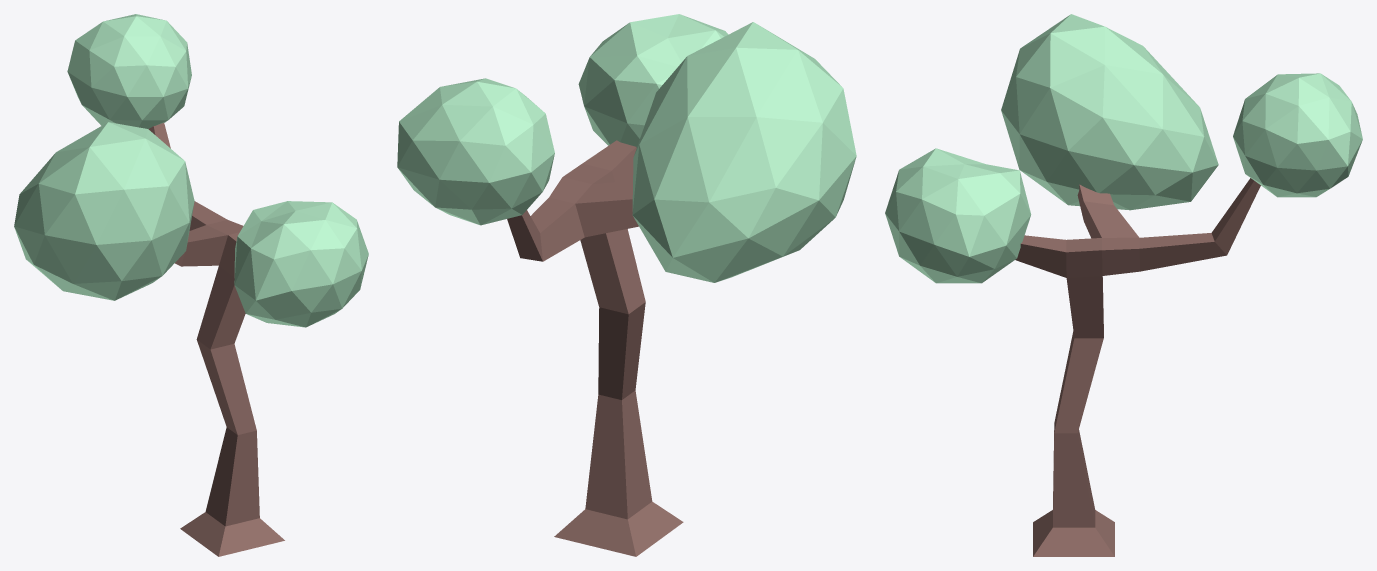
Rendered from Tree.fbx.
3 renders of one model, left to right at view 1: azimuth 30°, elevation 25°; view 2: azimuth 150°, elevation 25°; view 3: azimuth 270°, elevation 25°, orthographic. The views are drawn at different scales.
Parts seen in each view (by area): view 1: Cube; view 2: Cube; view 3: Cube.
Boxes of the visible parts, x1=… form: Cube: x1=14, y1=14, x2=368, y2=556; Cube: x1=397, y1=14, x2=856, y2=556; Cube: x1=885, y1=14, x2=1362, y2=556.
Bounding box in the file's own units: 217 × 334 × 310.
